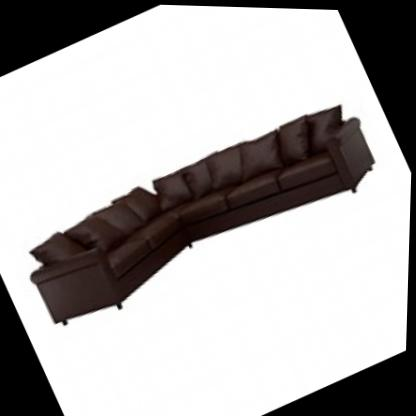Sofa: (0, 52, 413, 375)
